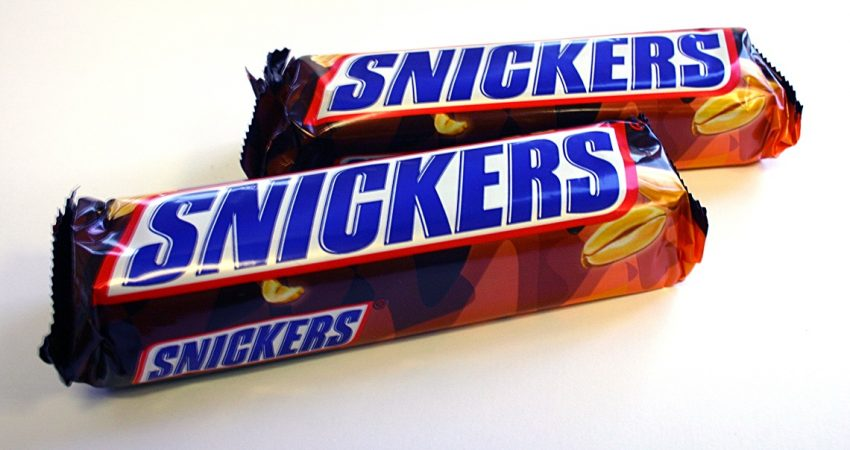snickers: (118, 131, 620, 290), (323, 31, 728, 112), (145, 308, 364, 381)
